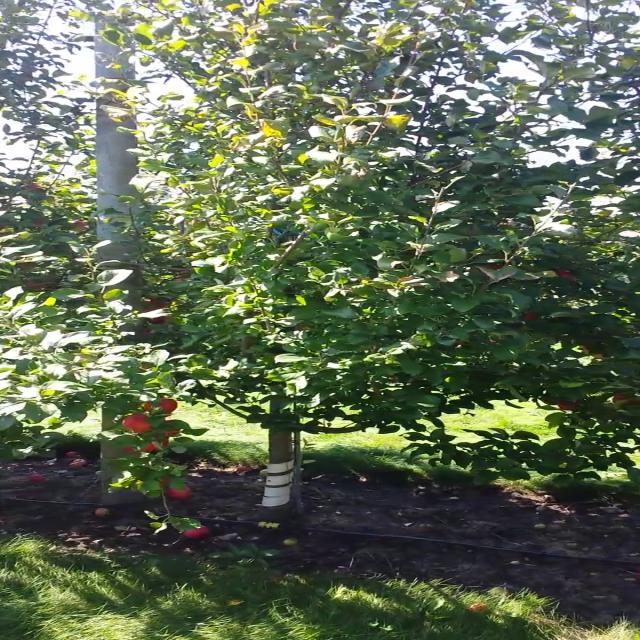apple: (122, 441, 168, 454), (120, 413, 150, 432), (146, 398, 178, 414), (165, 484, 192, 500), (156, 428, 180, 439), (555, 268, 576, 280), (558, 400, 582, 410), (143, 314, 166, 324), (612, 392, 633, 402), (146, 297, 162, 310), (480, 263, 501, 270), (524, 311, 538, 321), (160, 476, 170, 488)
